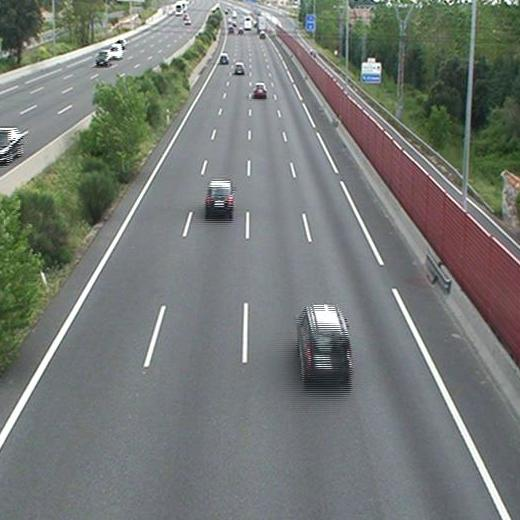car: (299, 306, 351, 378), (205, 181, 233, 214), (253, 82, 266, 98), (234, 62, 244, 74), (219, 54, 228, 64)
